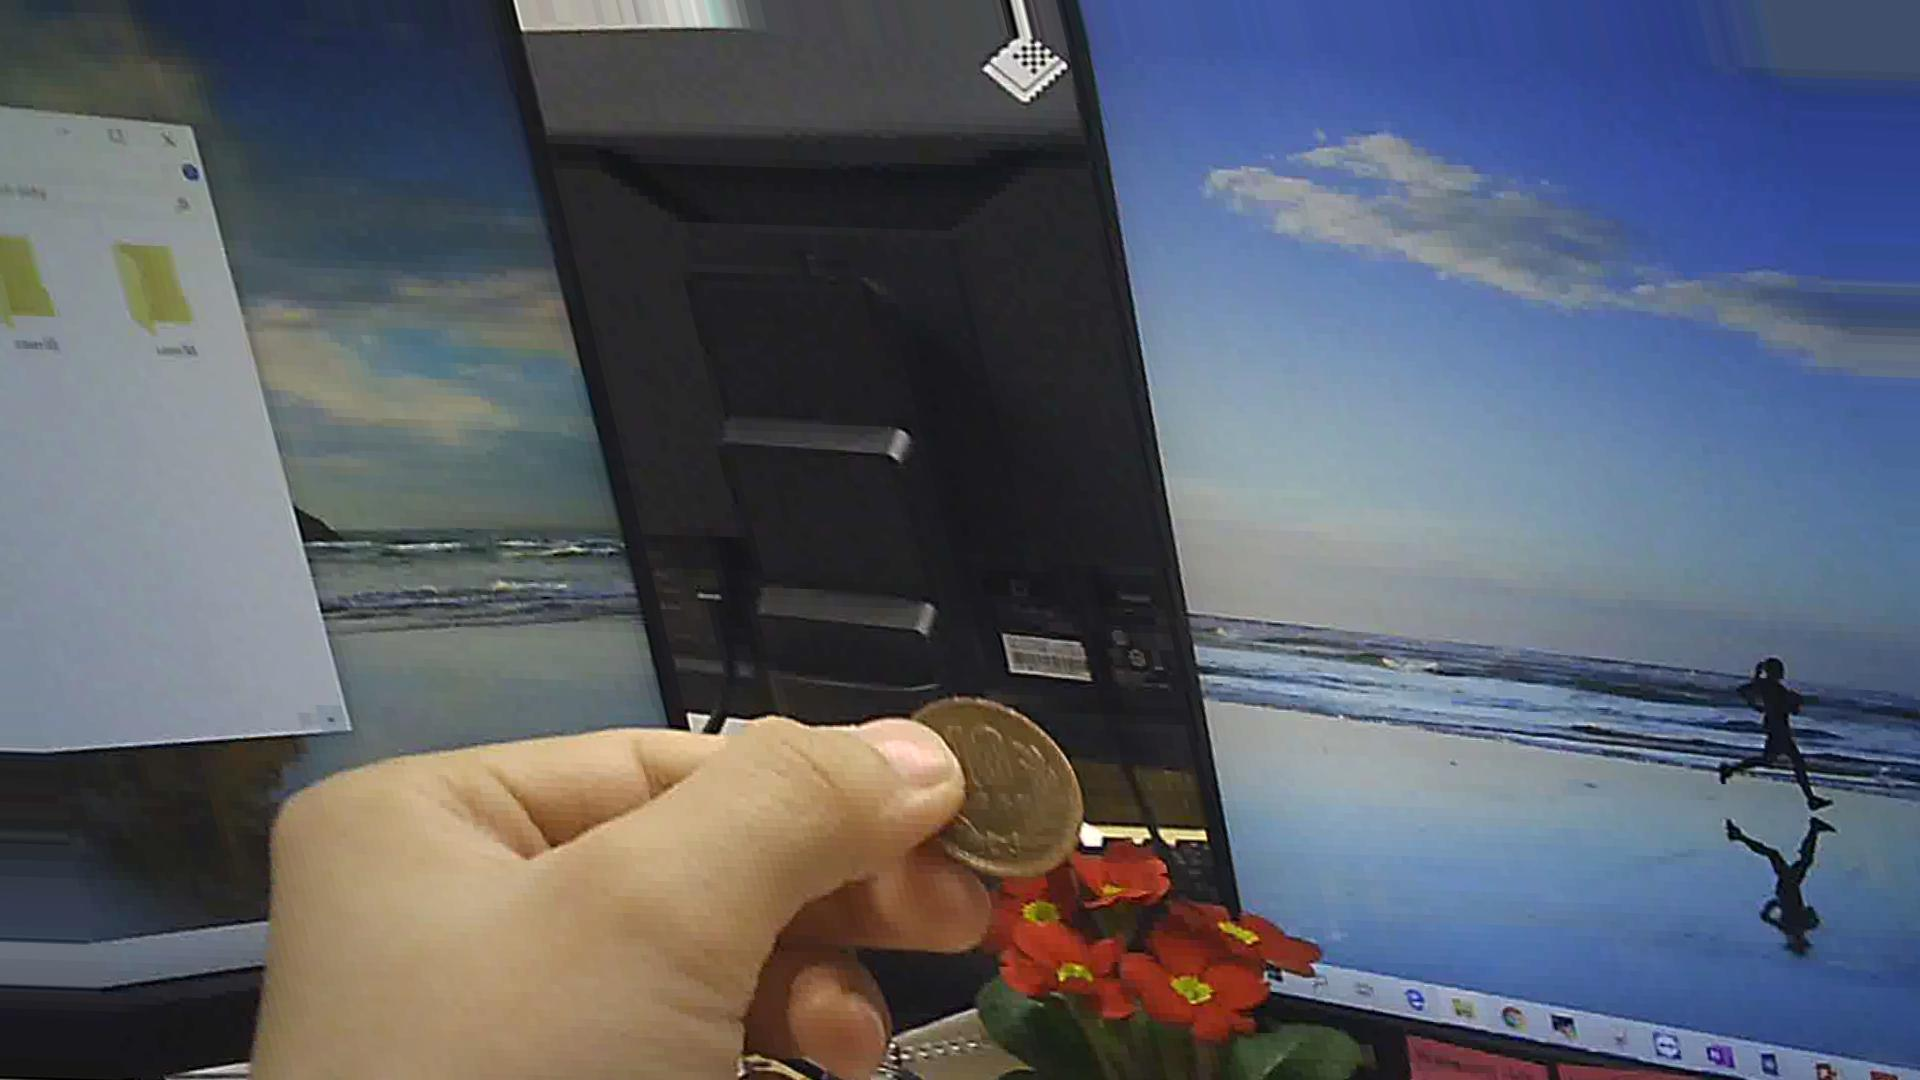10 Yen: (897, 698, 1087, 884)
